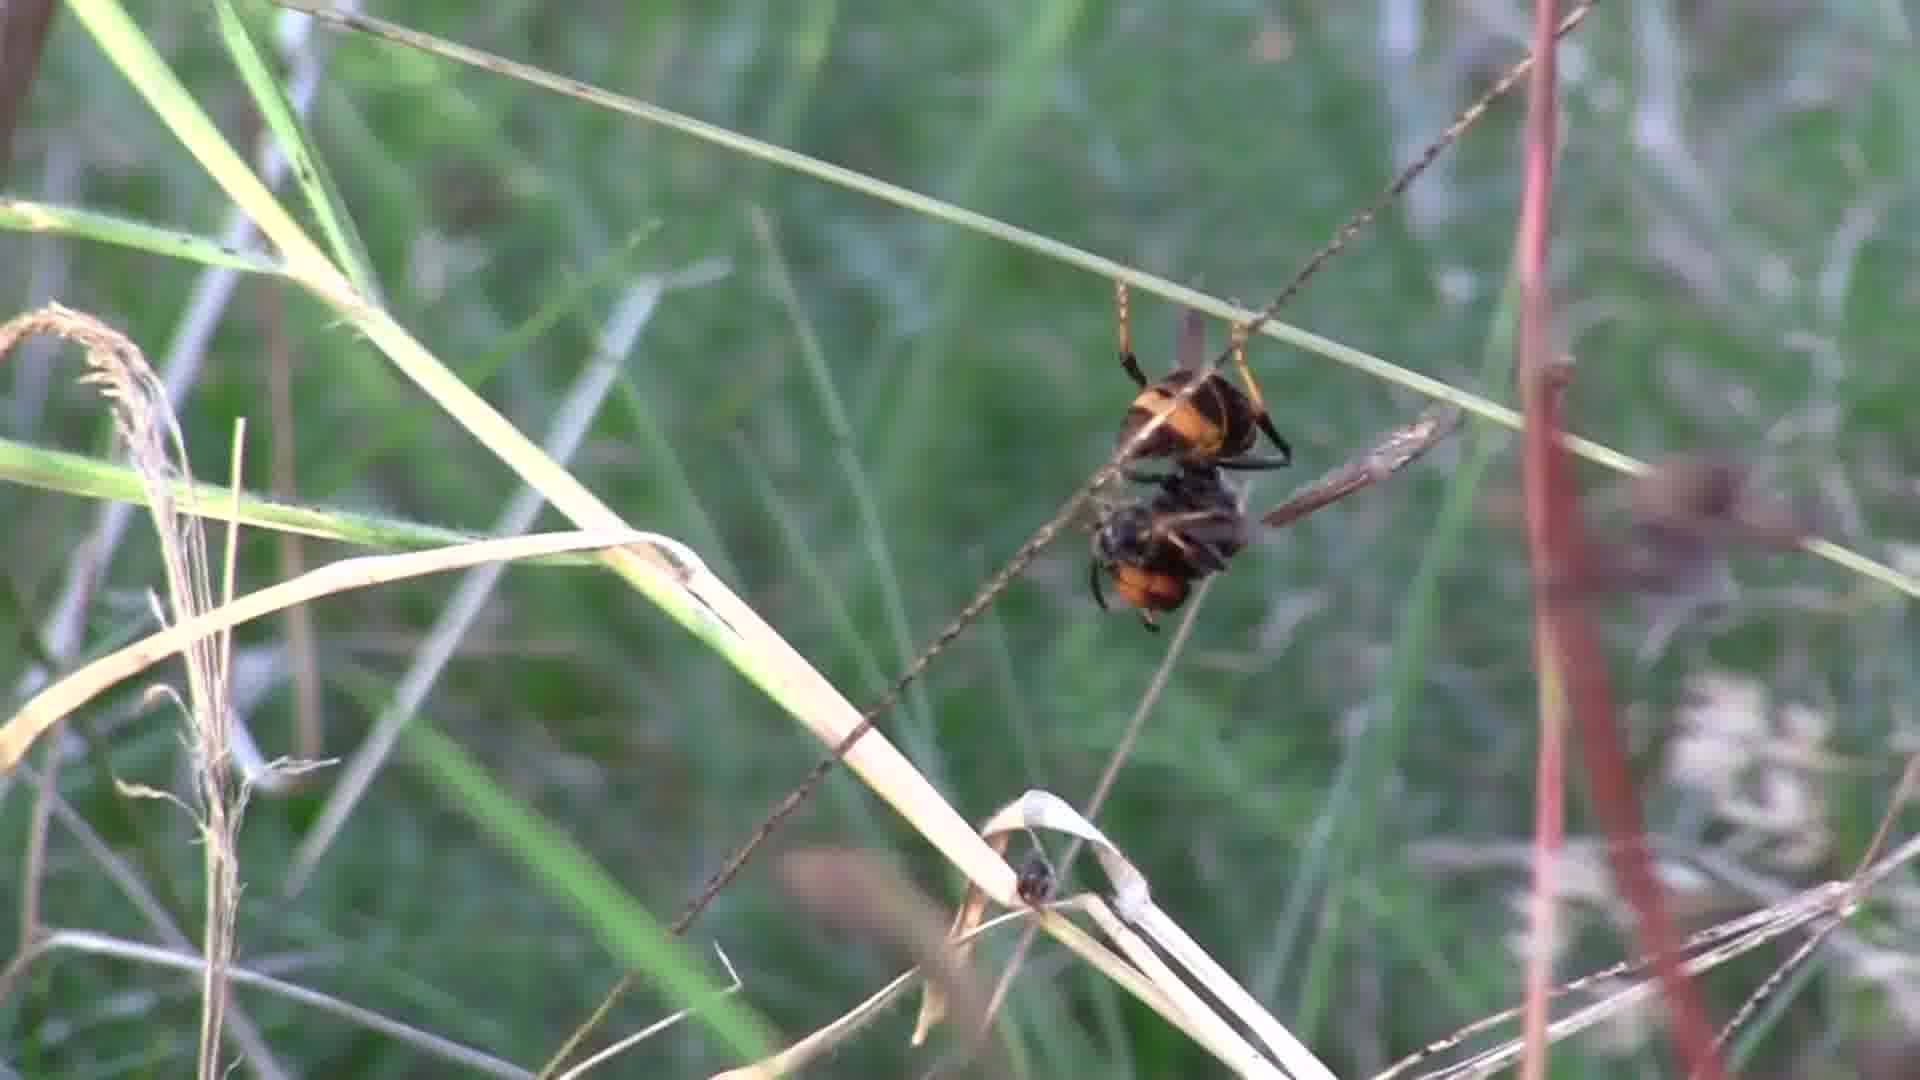hornet: (1047, 309, 1312, 640)
